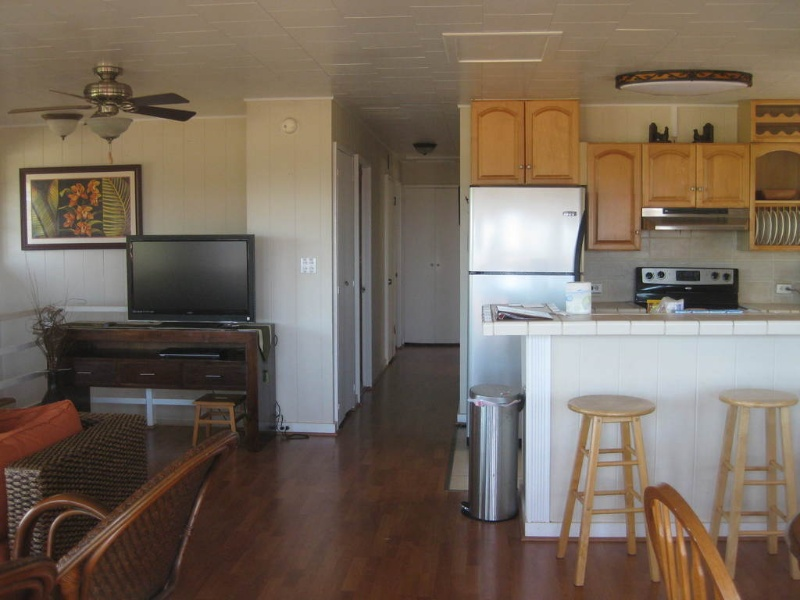chair: (558, 391, 666, 585), (713, 383, 797, 577)
refrigerator: (463, 183, 583, 366)
tv: (119, 227, 263, 324)
